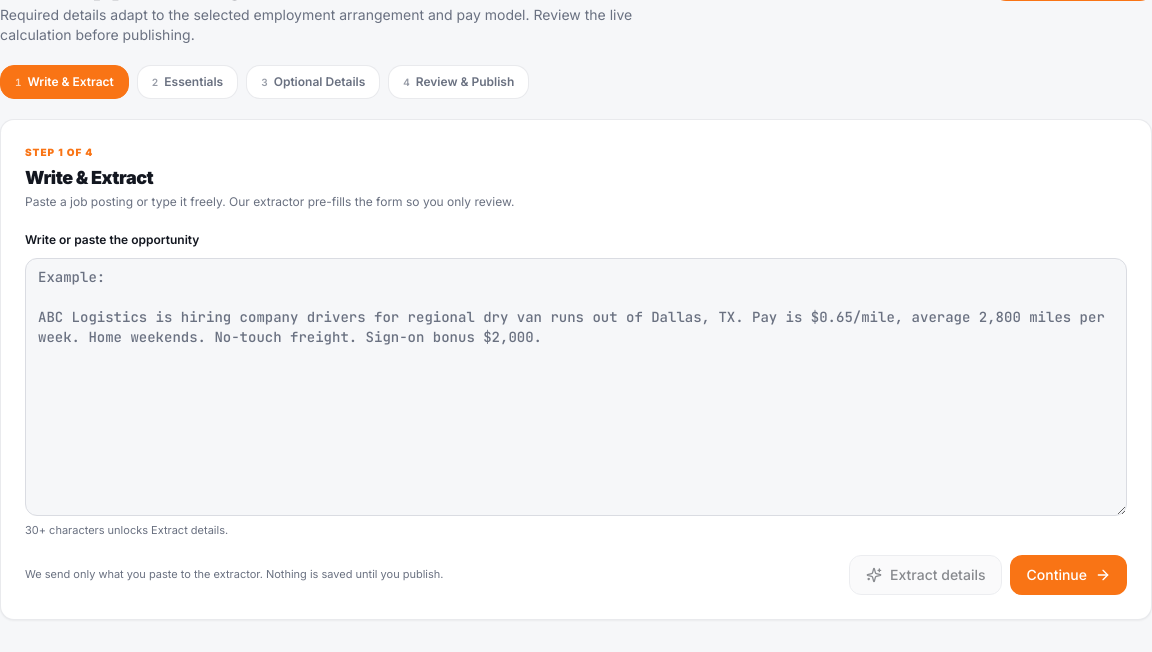
Test case: CF-1C-B 10) optional structured controls in the authoring form › 10c) helper copy explains structured comparison and points other rules at Requirements
The image size is (1152, 652).
Click the tab "3Optional Details" at (313, 82), box [246,65,380,99]
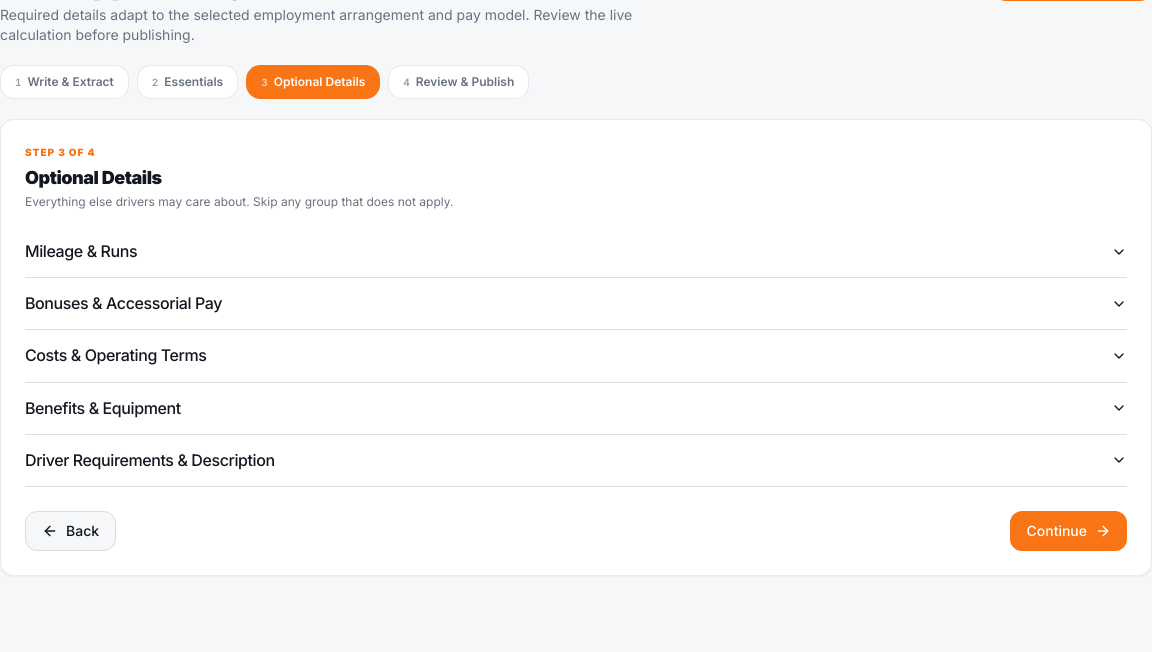
Click the button "Driver Requirements & Description" at (150, 460), box [25,435,1127,486]
(page scrolled)
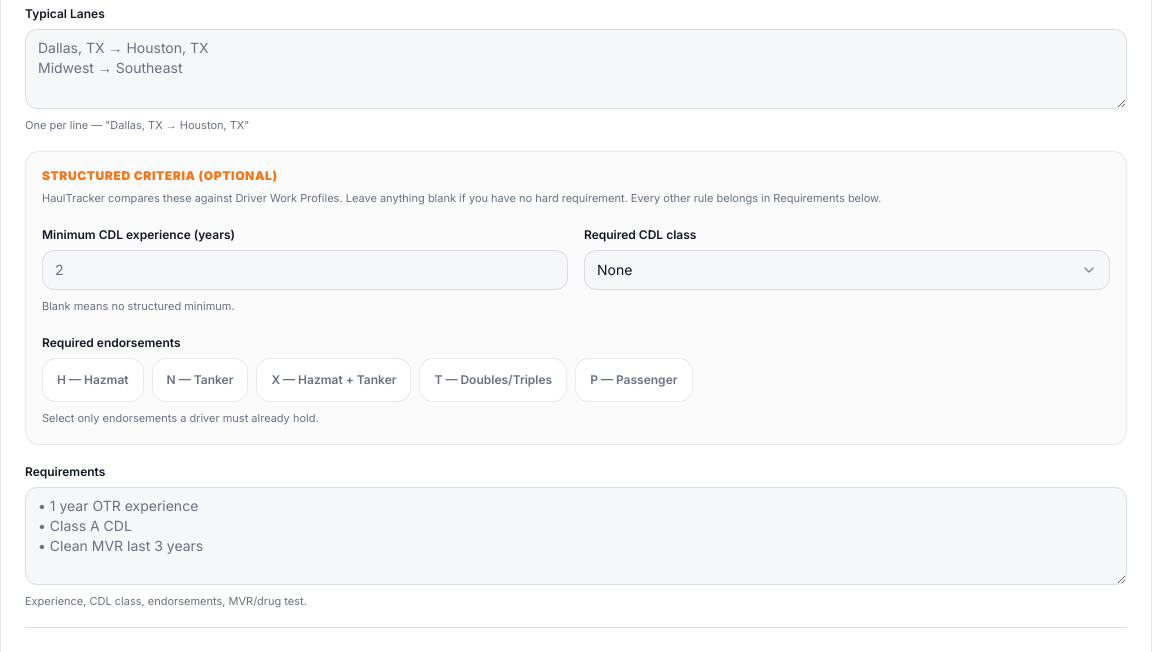
Result: the element with test id "structured-qualification-criteria" shows "Driver Work Profiles" at [42,191,882,205]
Result: the element with test id "structured-qualification-criteria" shows "Requirements" at [42,191,882,205]
